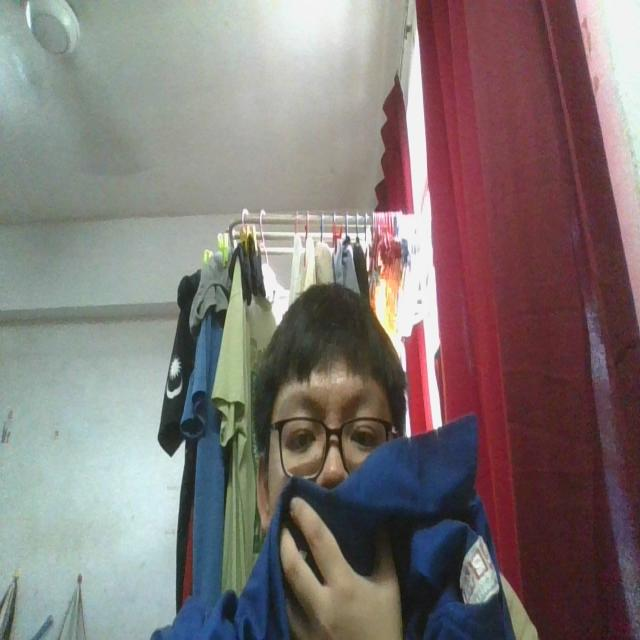person_without_labcoat: (152, 284, 537, 639)
